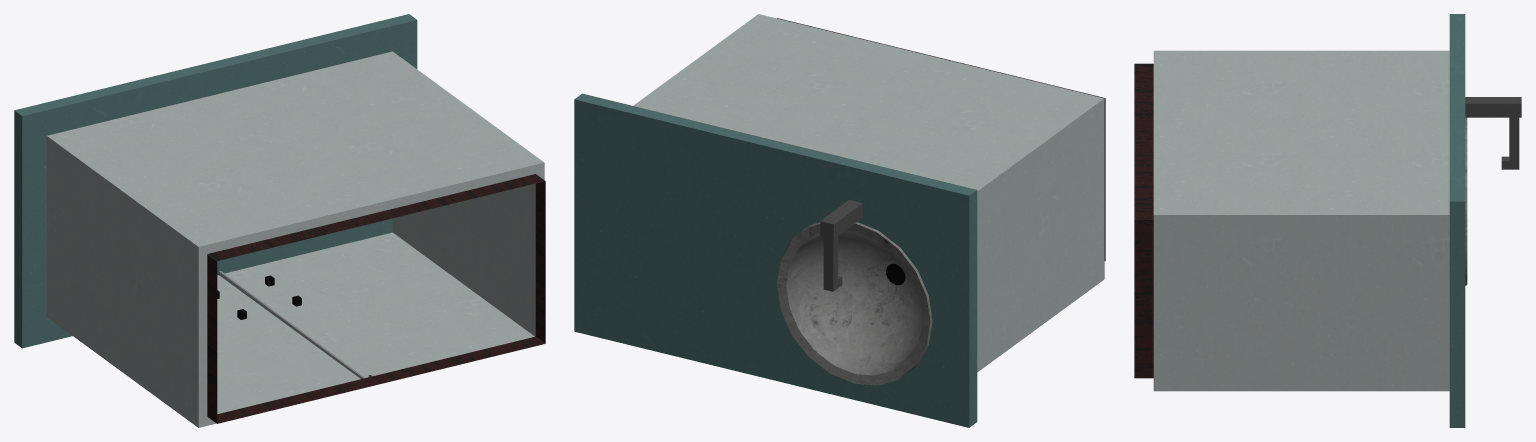
Rendered from Armari.FBX.
3 renders of one model, left to right at view 1: azimuth 30°, elevation 25°; view 2: azimuth 150°, elevation 25°; view 3: azimuth 270°, elevation 25°, orthographic. The views are drawn at different scales.
Visible parts, largest first — view 1: ArmariAixeta; view 2: ArmariAixeta; view 3: ArmariAixeta.
Boxes of the visible parts, box(x1,y1,x2,y2) form: ArmariAixeta: box(14, 14, 545, 427); ArmariAixeta: box(574, 14, 1105, 427); ArmariAixeta: box(1134, 14, 1521, 427).
Size of the model in its own units: 114 by 64.14 by 99.5.
Materials: 1 (1 with a texture image).
